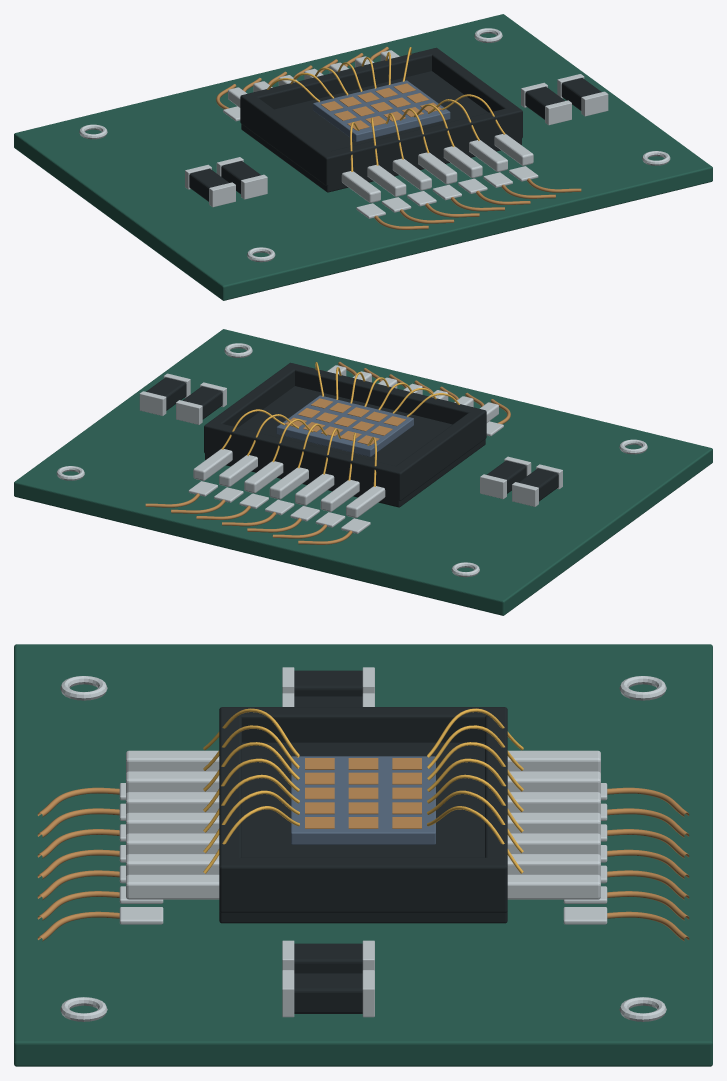
File: esd.glb
The picture shows the model from 3 angles, top to bottom: view 1: azimuth 30°, elevation 25°; view 2: azimuth 150°, elevation 25°; view 3: azimuth 270°, elevation 25°; orthographic projection. The views are drawn at different scales.
Parts seen in each view (by area): view 1: circuit_board, package_base, package_edge.003, package_edge.002, package_edge, silicon_die, package_edge.001, passive_component.003, passive_component, passive_component.002, pin_1_4, pin_1_1 (+10 smaller); view 2: circuit_board, package_base, package_edge.002, package_edge.003, package_edge, silicon_die, package_edge.001, passive_component.002, passive_component.003, passive_component, pin_-1_4, pin_-1_1 (+10 smaller); view 3: circuit_board, package_base, package_edge.001, package_edge, silicon_die, package_edge.002, package_edge.003, passive_component.003, pin_-1_6, pin_1_6, passive_component.002, pin_-1_0 (+19 smaller).
Boxes of the visible parts, x1,y1,x2,y2 form: circuit_board: (14,14,712,300); package_base: (241,71,521,192); package_edge.003: (324,106,520,182); package_edge.002: (243,48,437,109); package_edge: (240,95,336,185); silicon_die: (313,80,450,141); package_edge.001: (428,47,522,139); passive_component.003: (561,78,601,110); passive_component: (189,168,228,201); passive_component.002: (525,86,564,119); pin_1_4: (443,146,482,178); pin_1_1: (367,165,406,196); circuit_board: (14,329,712,615); package_base: (205,386,485,507); package_edge.002: (206,421,402,498); package_edge.003: (288,363,483,424); package_edge: (390,410,486,500); silicon_die: (276,395,413,456); package_edge.001: (204,362,299,453); passive_component.002: (182,386,222,419); passive_component.003: (146,377,186,410); passive_component: (518,468,558,501); pin_-1_4: (244,461,283,493); pin_-1_1: (320,480,359,511); circuit_board: (14,644,712,1066); package_base: (219,742,507,923); package_edge.001: (219,857,507,912); package_edge: (219,707,507,742); silicon_die: (291,756,435,844); package_edge.002: (485,708,507,865); package_edge.003: (219,708,241,865); passive_component.003: (294,973,362,1013); pin_-1_6: (507,874,600,899); pin_1_6: (126,874,219,899); passive_component.002: (294,943,362,973); pin_-1_0: (507,750,600,772).
Size of the model in its own units: 5.4 by 0.7805 by 4.
